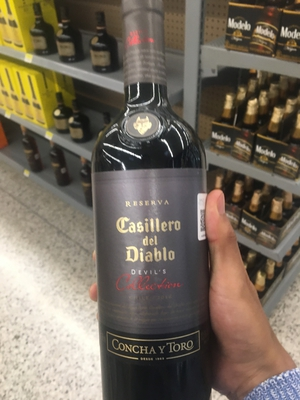casillero del diablo devils collection rojo: (90, 16, 216, 400)
